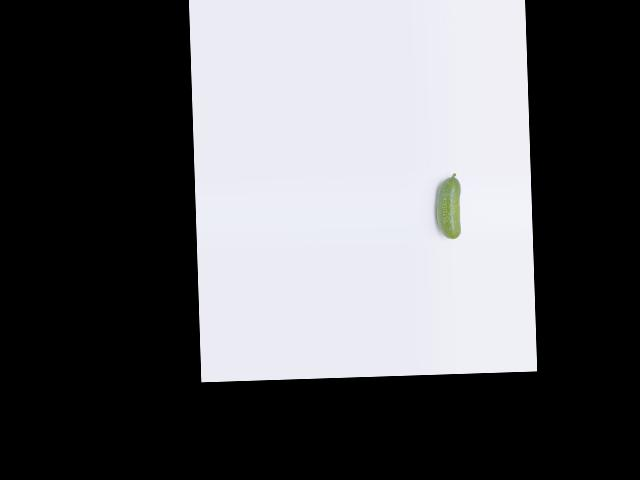cucumber: (434, 173, 462, 240)
